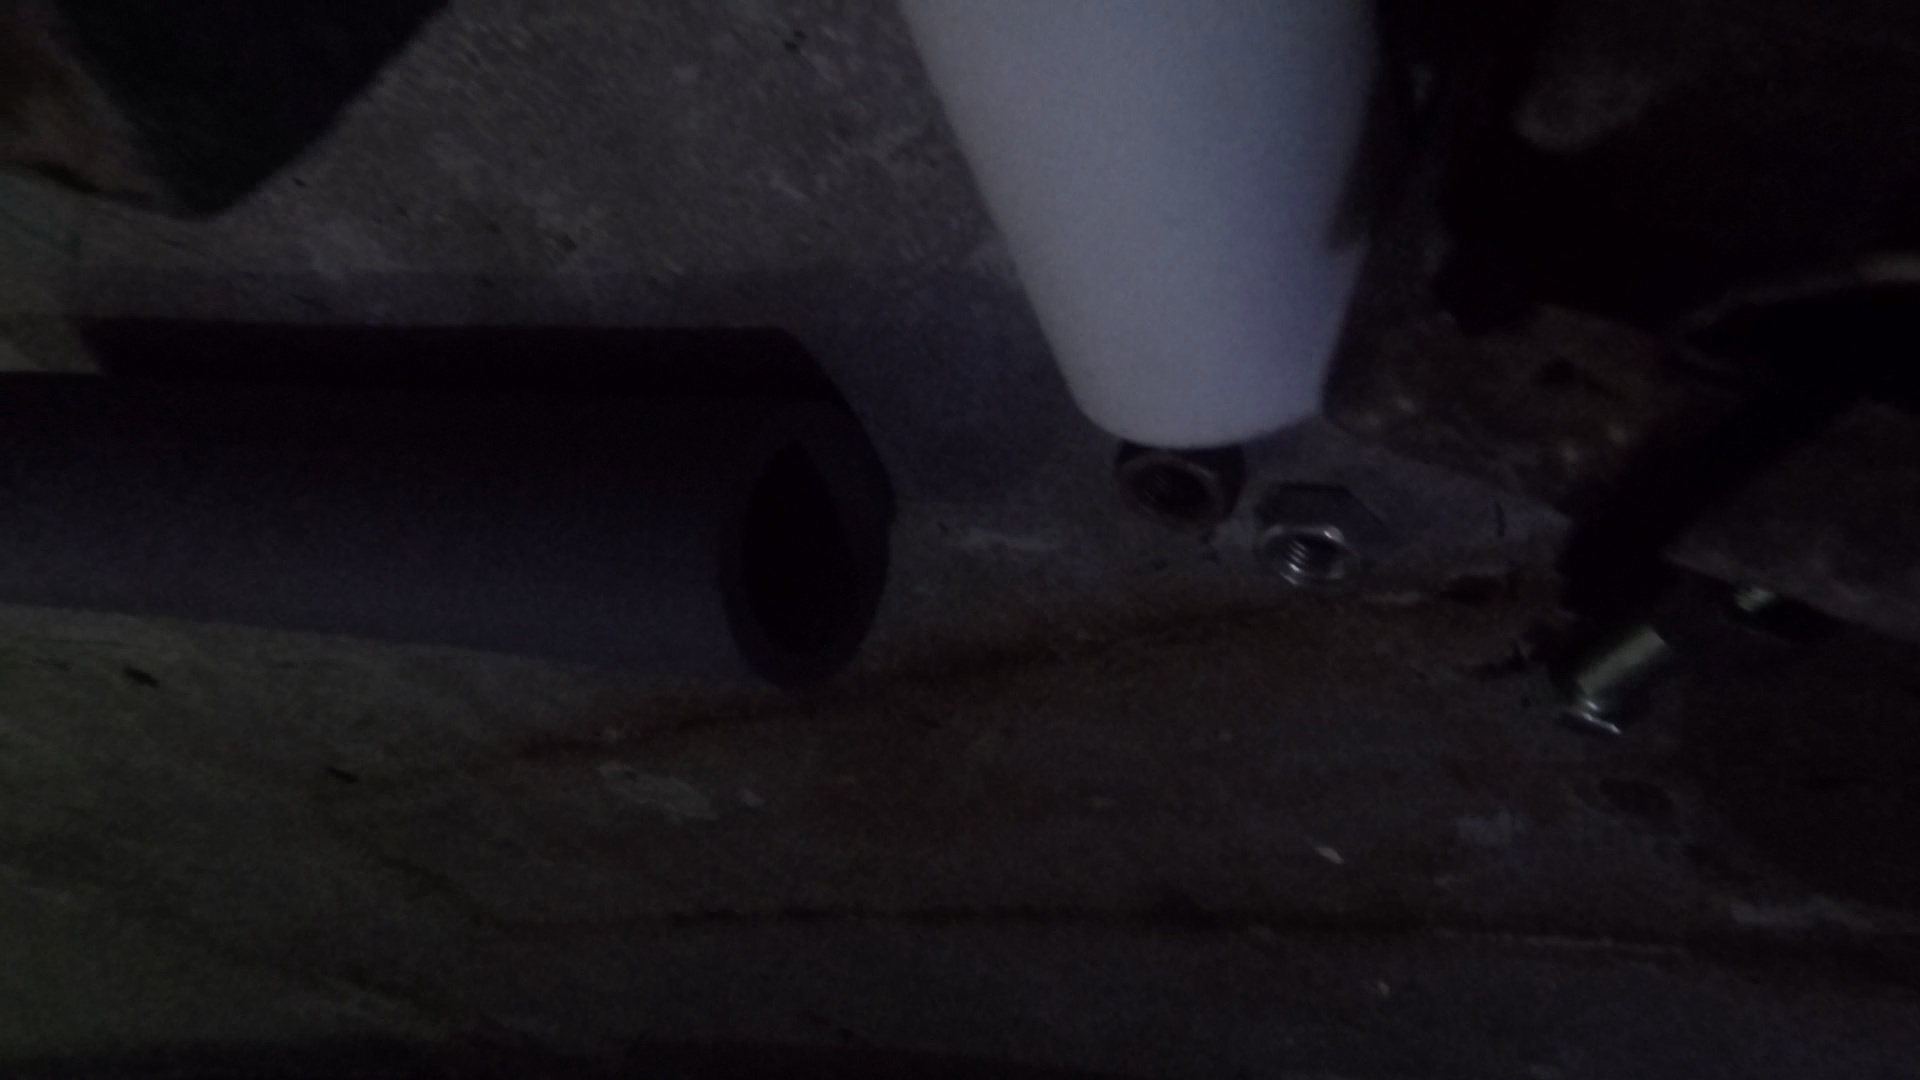bolt: (1534, 585, 1778, 746)
led_block: (1319, 1, 1916, 644), (3, 1, 348, 222)
nut: (1250, 484, 1381, 601), (1642, 589, 1775, 686), (1112, 446, 1240, 535)
pipe: (1, 367, 889, 691), (899, 1, 1375, 459)
